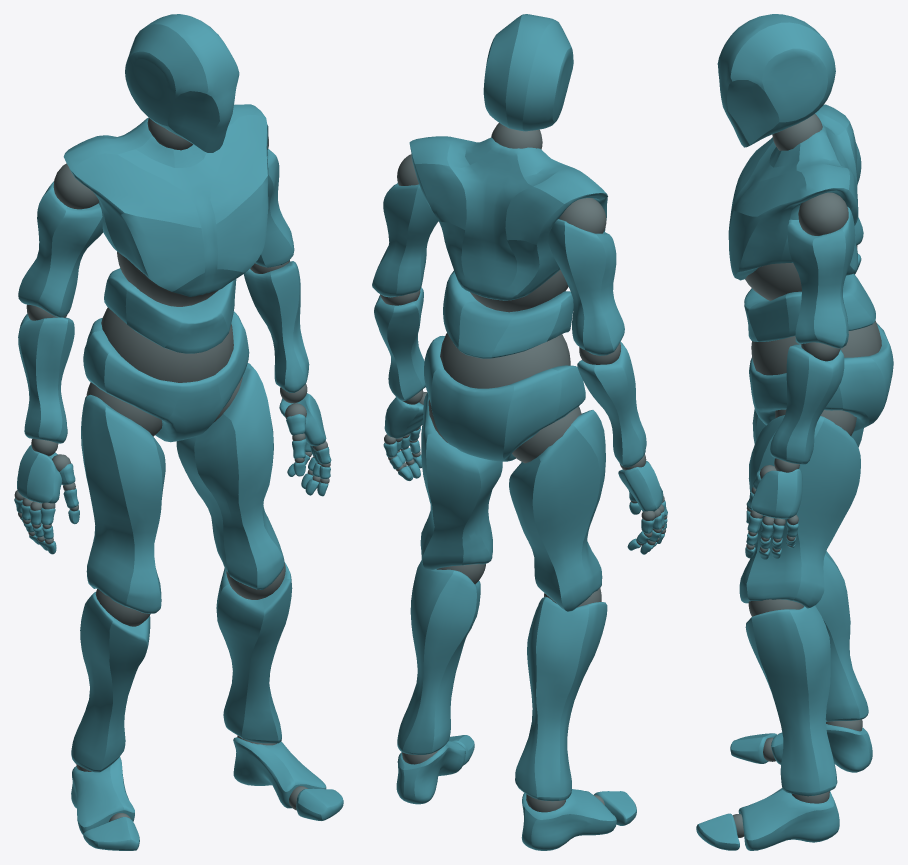
Rendered from Separate_y-bot_model.fbx.
3 renders of one model, left to right at view 1: azimuth 30°, elevation 25°; view 2: azimuth 150°, elevation 25°; view 3: azimuth 270°, elevation 25°, orthographic. The views are drawn at different scales.
Parts seen in each view (by area): view 1: polySurface11, polySurface8, polySurface7, polySurface12, polySurface9, polySurface6, polySurface5, polySurface31, polySurface10, polySurface32, polySurface14, polySurface46 (+15 smaller); view 2: polySurface11, polySurface8, polySurface5, polySurface9, polySurface6, polySurface7, polySurface12, polySurface31, polySurface10, polySurface13, polySurface32, polySurface46 (+10 smaller); view 3: polySurface11, polySurface12, polySurface7, polySurface6, polySurface13, polySurface9, polySurface14, polySurface5, polySurface2, polySurface10, polySurface20, polySurface46 (+10 smaller).
Boxes of the visible parts, bbox=[...] form: polySurface11: bbox=[63, 104, 268, 296]; polySurface8: bbox=[81, 394, 165, 613]; polySurface7: bbox=[176, 363, 284, 589]; polySurface12: bbox=[125, 14, 239, 152]; polySurface9: bbox=[83, 311, 249, 442]; polySurface6: bbox=[216, 561, 292, 743]; polySurface5: bbox=[71, 592, 150, 772]; polySurface31: bbox=[18, 181, 103, 317]; polySurface10: bbox=[104, 268, 236, 353]; polySurface32: bbox=[18, 313, 74, 443]; polySurface14: bbox=[243, 261, 309, 392]; polySurface46: bbox=[101, 307, 233, 382]; polySurface11: bbox=[409, 136, 607, 300]; polySurface8: bbox=[509, 410, 605, 611]; polySurface5: bbox=[515, 596, 607, 801]; polySurface9: bbox=[424, 336, 585, 461]; polySurface6: bbox=[397, 560, 480, 754]; polySurface7: bbox=[420, 392, 502, 569]; polySurface12: bbox=[483, 14, 573, 131]; polySurface31: bbox=[547, 219, 624, 355]; polySurface10: bbox=[443, 271, 573, 358]; polySurface13: bbox=[372, 183, 438, 297]; polySurface32: bbox=[577, 341, 646, 467]; polySurface46: bbox=[440, 333, 570, 388]; polySurface11: bbox=[728, 104, 858, 280]; polySurface12: bbox=[717, 14, 835, 147]; polySurface7: bbox=[739, 415, 860, 608]; polySurface6: bbox=[745, 605, 837, 796]; polySurface13: bbox=[787, 206, 855, 348]; polySurface9: bbox=[749, 323, 893, 431]; polySurface14: bbox=[770, 344, 844, 464]; polySurface5: bbox=[815, 551, 868, 721]; polySurface2: bbox=[738, 788, 839, 850]; polySurface10: bbox=[744, 273, 875, 341]; polySurface20: bbox=[745, 469, 802, 559]; polySurface46: bbox=[751, 321, 881, 375].
Size of the model in its own units: 66.96 by 178 by 41.11.
